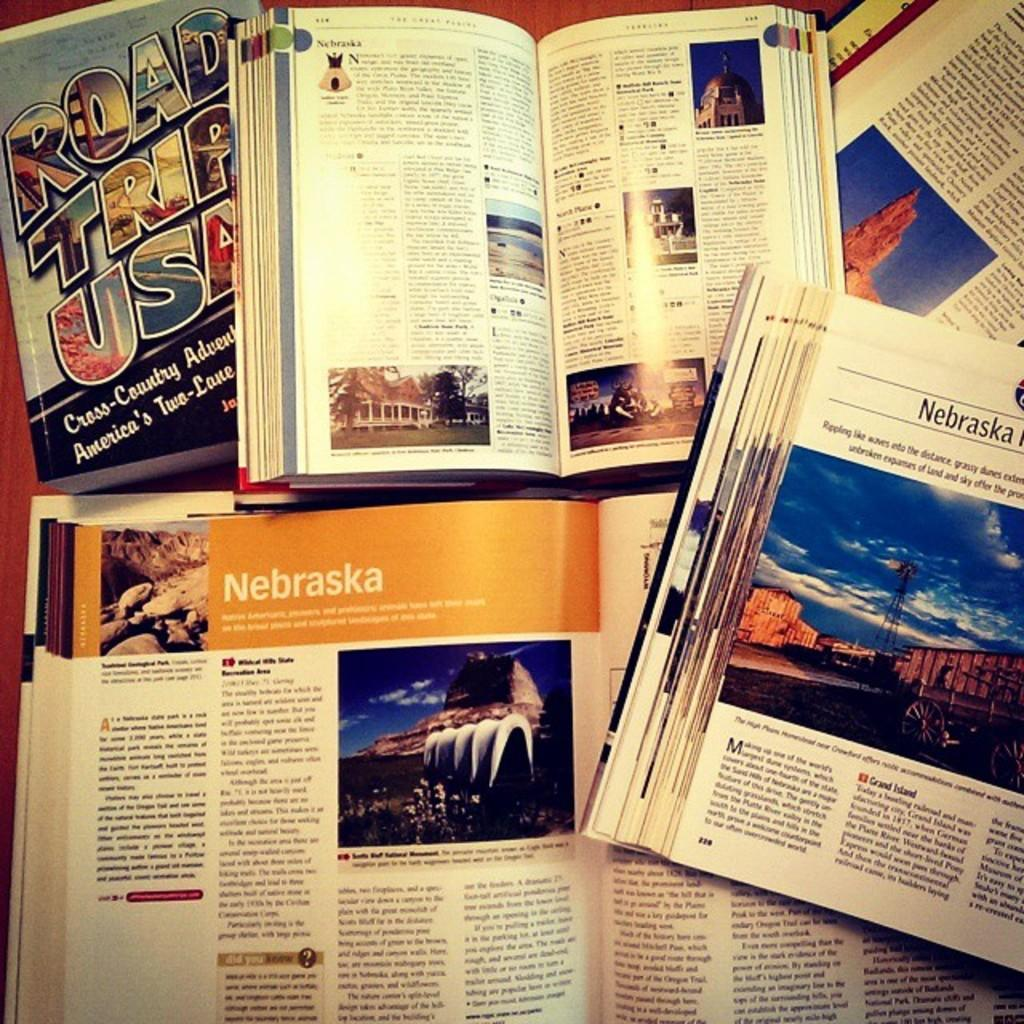Book: (0, 491, 1022, 1022), (582, 267, 1022, 978), (222, 3, 842, 507), (0, 0, 274, 482), (814, 0, 1022, 357)
